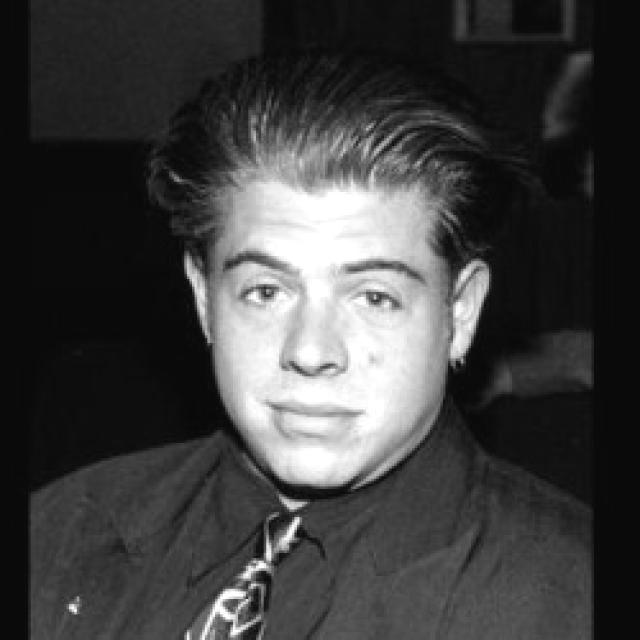real: (208, 176, 452, 496), (224, 257, 419, 334)
